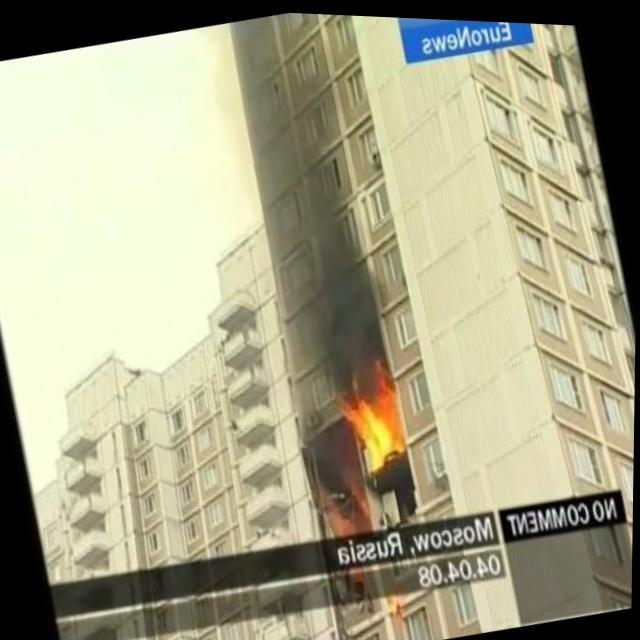fire: (332, 368, 412, 469), (314, 493, 362, 537)
